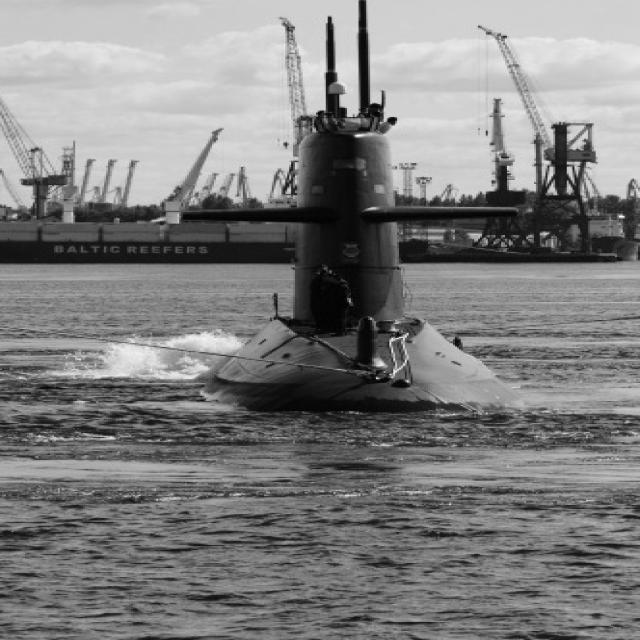submarine: (144, 1, 550, 420)
